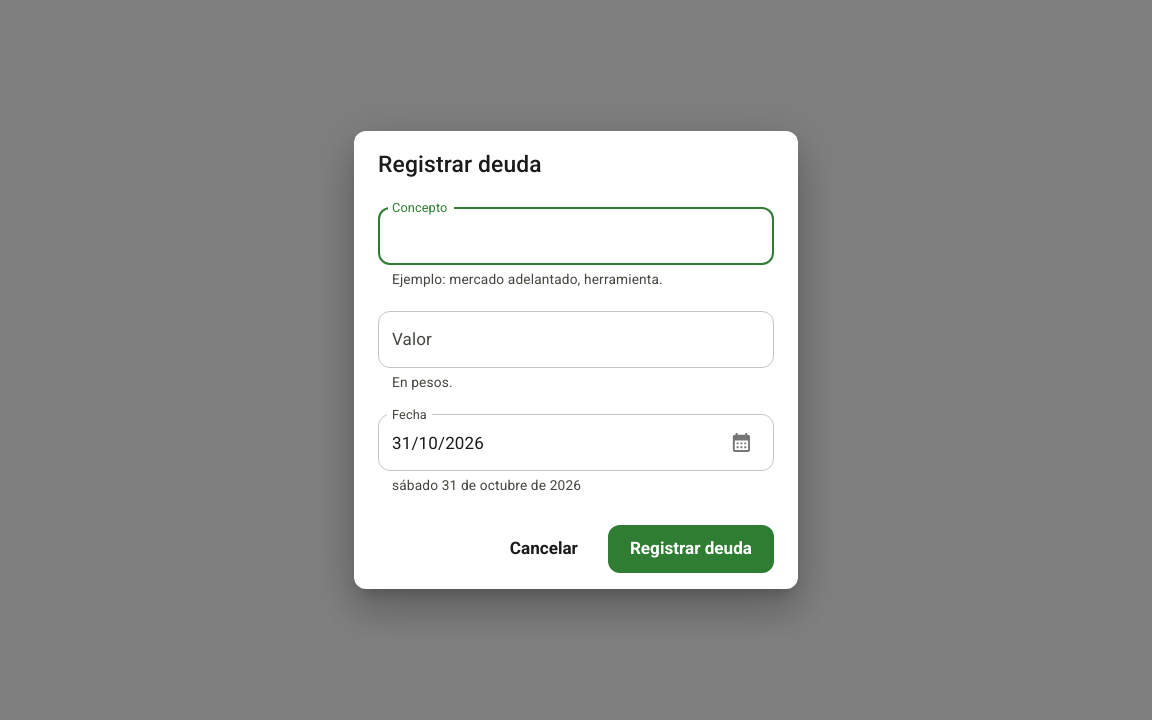
Test case: RegisterDebtDialog › asks for a concept and an amount
The image size is (1152, 720).
Click the button "Registrar deuda". click: (691, 549)
box: left=608, top=525, right=774, bottom=573
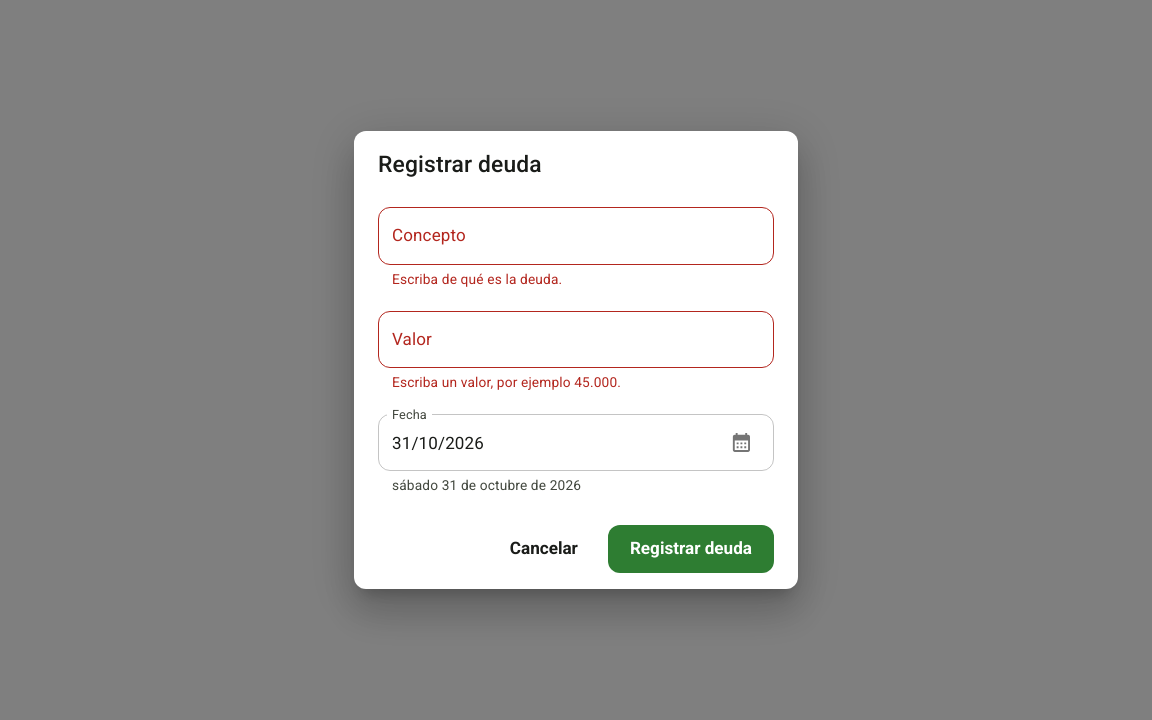
Result: the text "Escriba de qué es la deuda." is shown at left=392, top=271, right=562, bottom=287
Result: the text "Escriba un valor, por ejemplo 45.000." is shown at left=392, top=374, right=621, bottom=390
Type "0" into the field labelled "Valor". click: (576, 339)
box: left=378, top=311, right=774, bottom=368
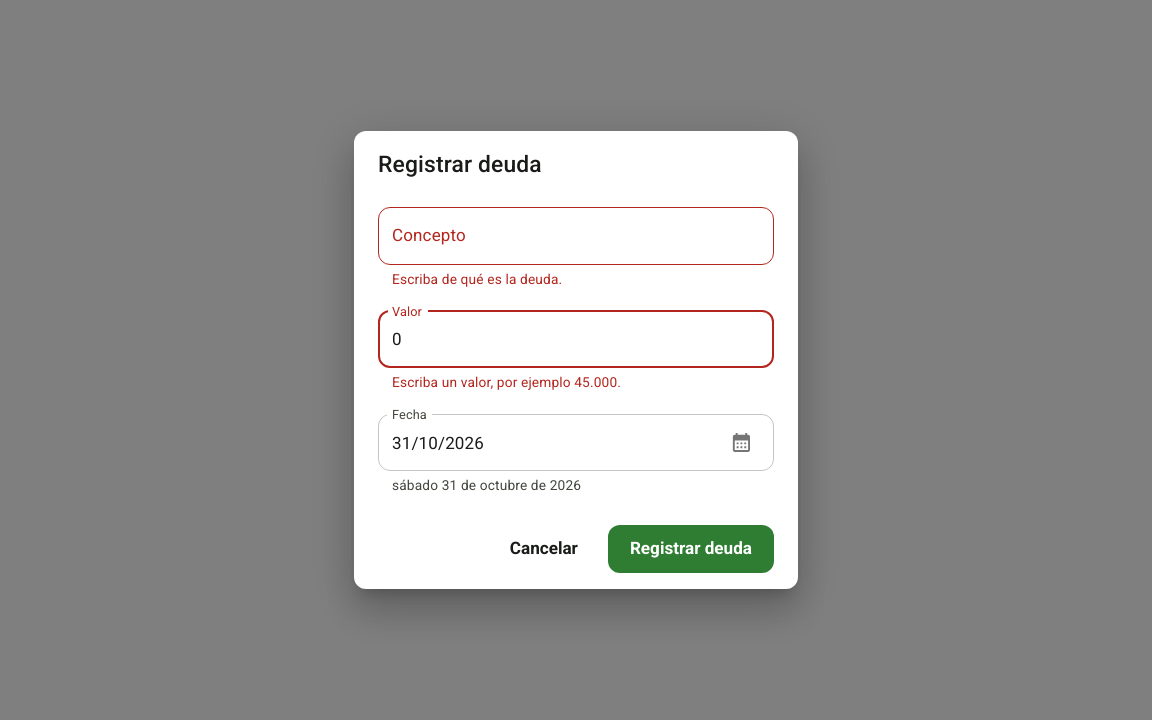
Click the button "Registrar deuda". click: (691, 549)
box: left=608, top=525, right=774, bottom=573
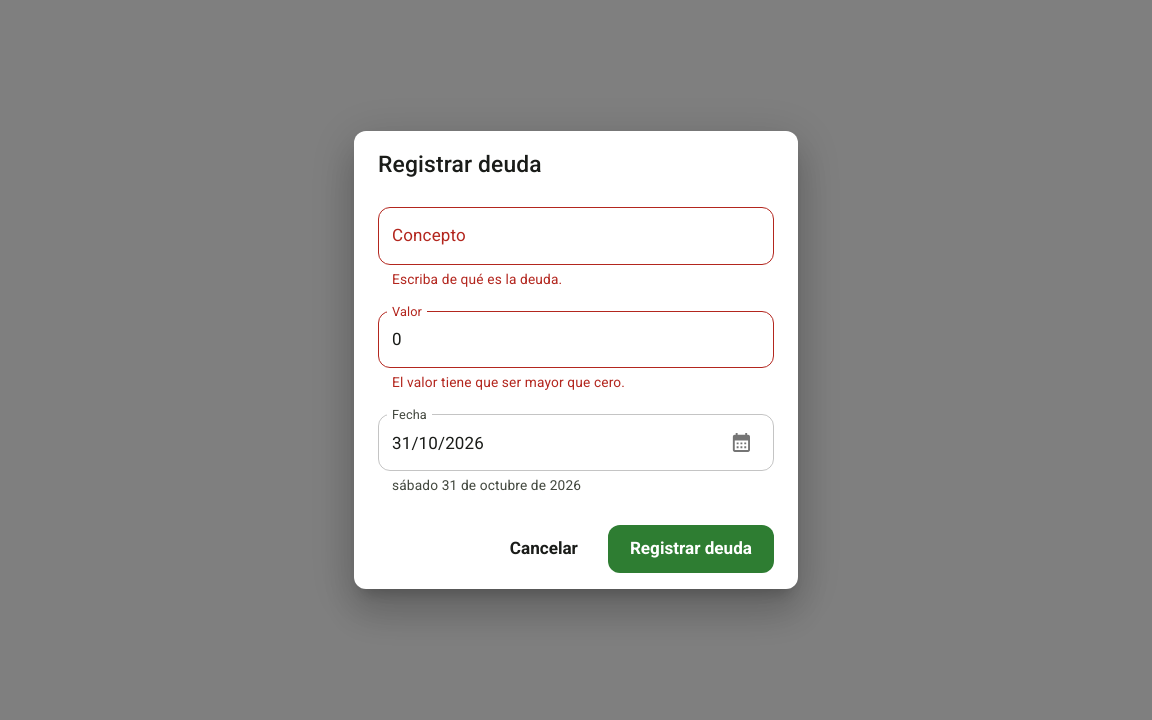
Result: the text "El valor tiene que ser mayor que cero." is shown at left=392, top=374, right=625, bottom=390
